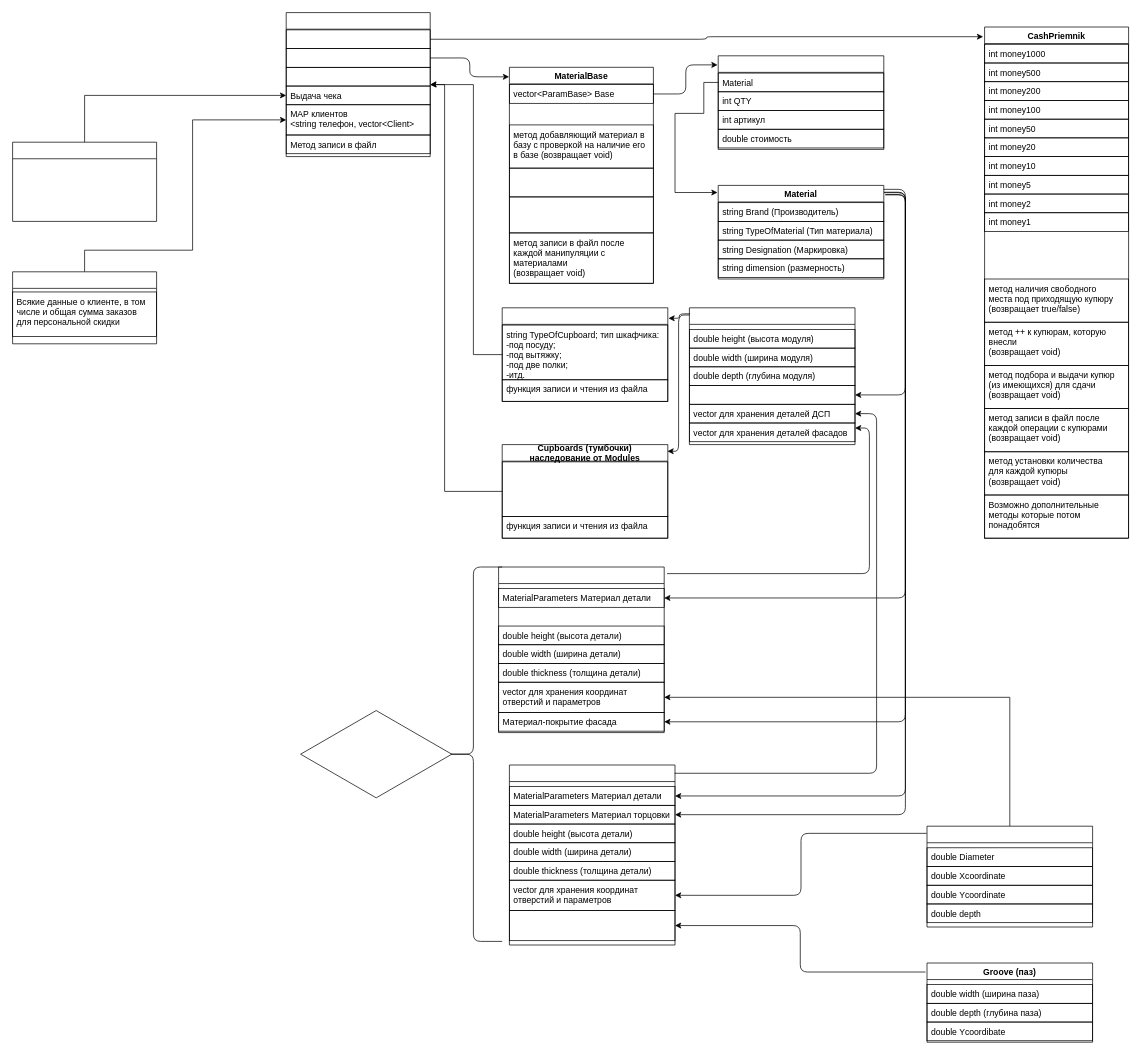
The diagram is 1141 pixels wide and 1056 high, and some of its shapes have lost their labels. Each missing label, with the box of its shape:
CashPriemnik Cash: (285, 29, 430, 49)
Client: (12, 271, 157, 344)
Cupboards (шкафчики навесные) наследование от Modules: (501, 307, 668, 401)
DetailDSP: (509, 764, 675, 945)
DetailFasade: (498, 566, 664, 733)
Holes (отверстия): (926, 825, 1093, 927)
iKitchen: (285, 12, 430, 157)
MaterialBase Base: (285, 48, 430, 67)
Modules: (689, 307, 855, 445)
ParamBase: (717, 55, 884, 149)
string TypeOfCupboard; тип тумбочки: -под духовку; -под полки; -под ящики; -итд.: (501, 461, 668, 517)
vector для хранения координат пазов: (509, 910, 675, 941)
vector для хранения фурнитуры: (689, 385, 855, 404)
Генератор модулей: (285, 67, 430, 86)
Класс выдача чека: (12, 141, 157, 221)
метод добавляющий материал в базу (возвращает void): (509, 167, 653, 197)
метод изменяющий количество материала в Базе (возвращает void): (509, 196, 653, 233)
Скорей всего будут наследоваться от одного класса: (300, 708, 452, 800)
